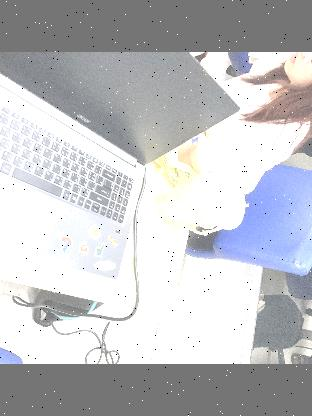Others: (158, 177, 218, 237), (205, 179, 247, 231), (154, 140, 199, 186), (122, 230, 148, 262), (136, 208, 160, 238), (231, 162, 269, 170), (225, 202, 249, 214)
